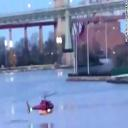helicopter: (27, 90, 60, 121)
